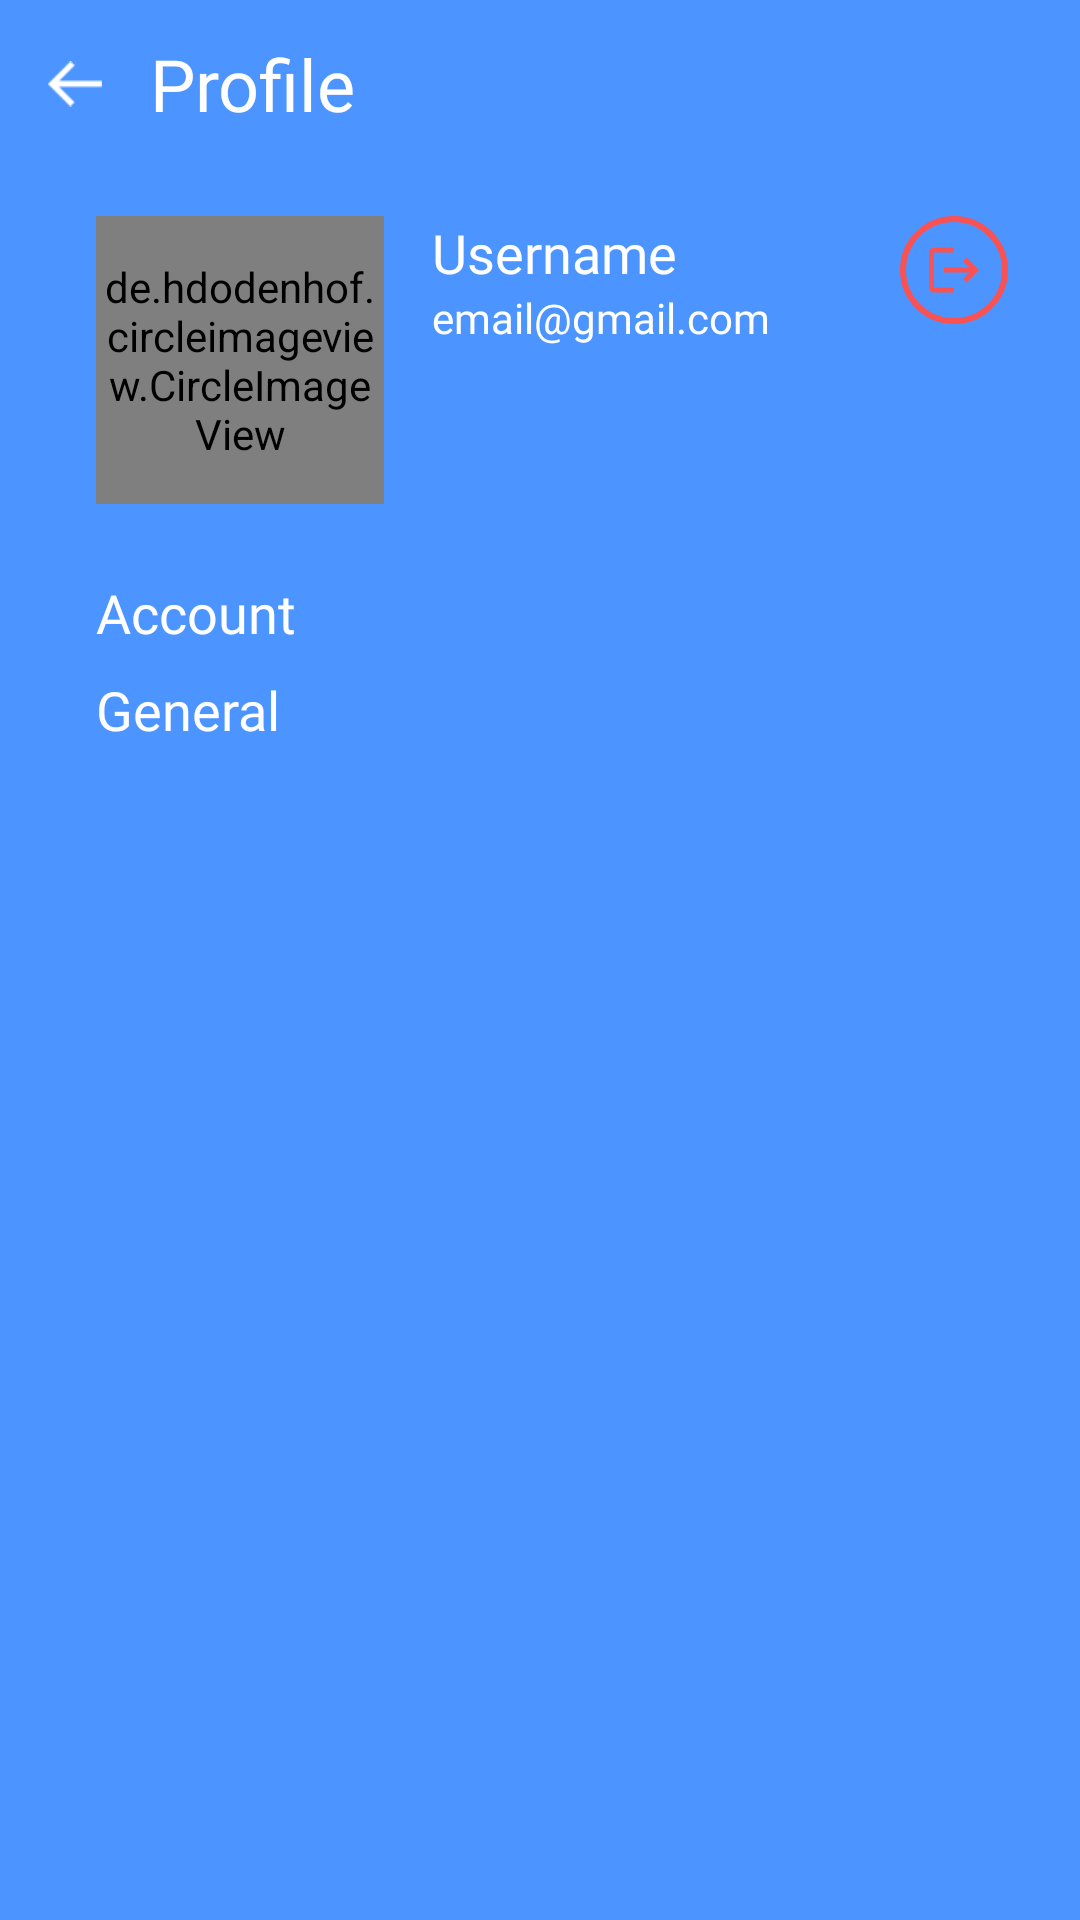

Where icons sit on this 1080px x 1920px app screen, as [x1=x1, y1=y1, x2=x2, y2=y2]:
back: [x1=48, y1=61, x2=102, y2=107]
